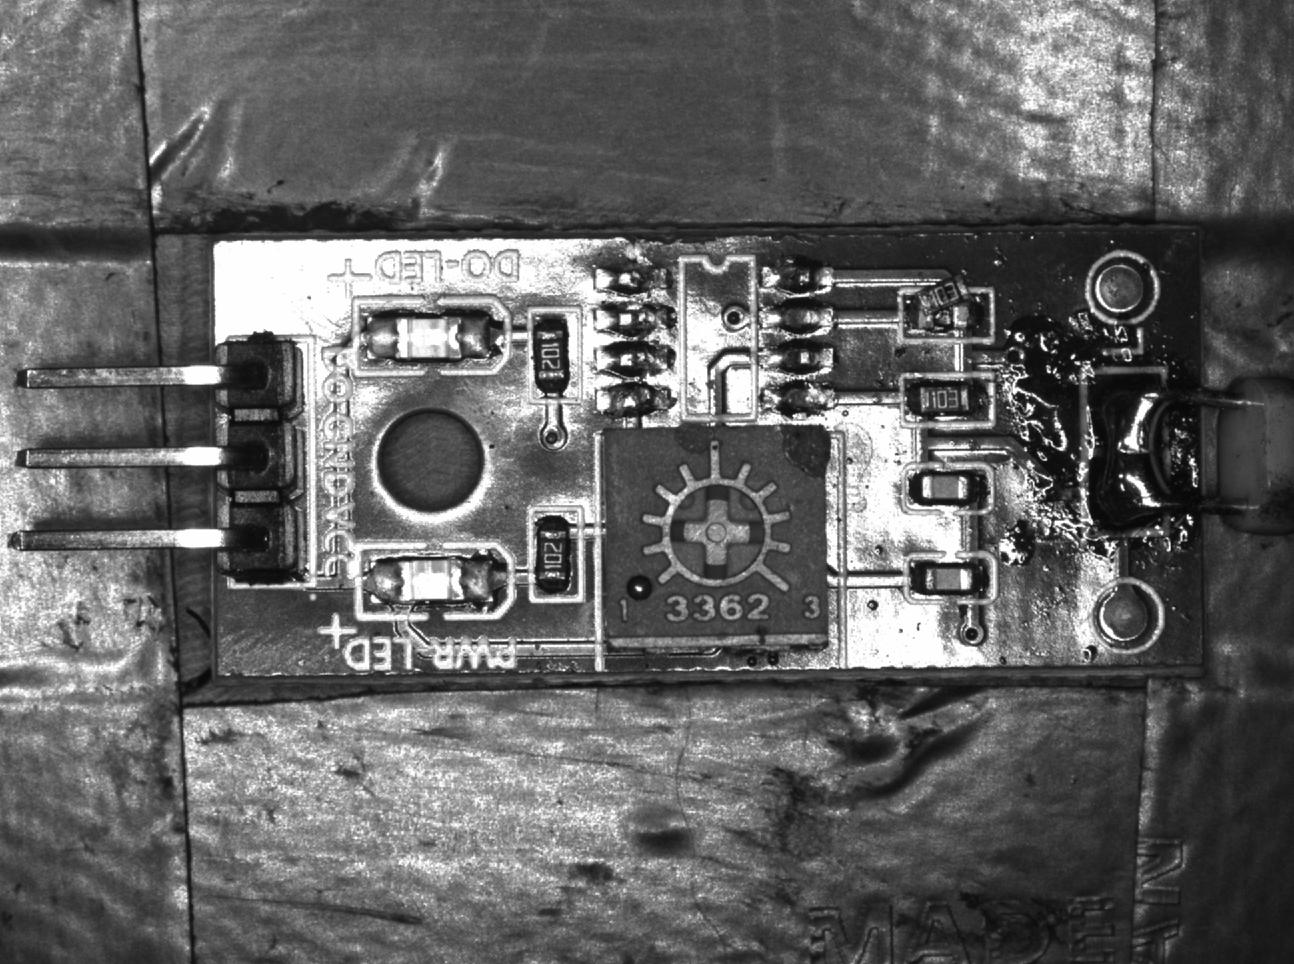bridge: (1083, 370, 1180, 544)
lifted: (899, 273, 993, 339)
ok: (531, 501, 584, 605), (901, 373, 993, 431), (905, 546, 996, 604), (528, 311, 583, 405), (905, 463, 995, 515)
